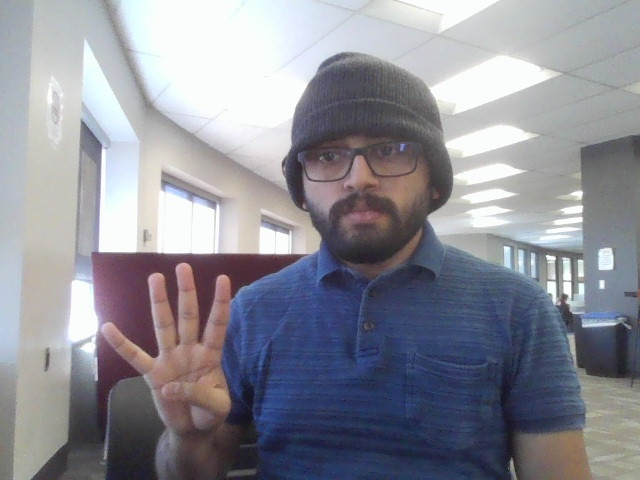start: (94, 258, 247, 448)
